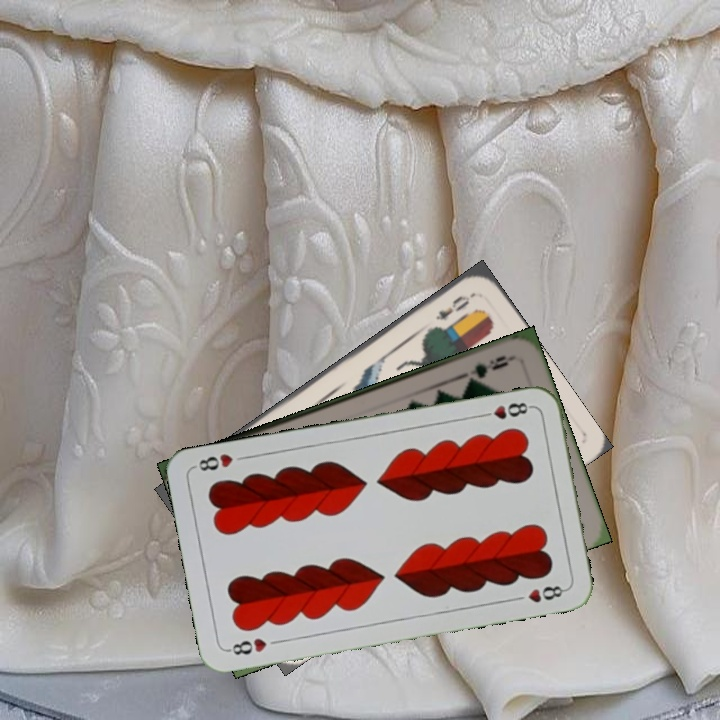EO: (431, 290, 476, 323)
G9: (459, 351, 517, 386)
H8: (476, 398, 535, 422), (224, 634, 270, 658)
